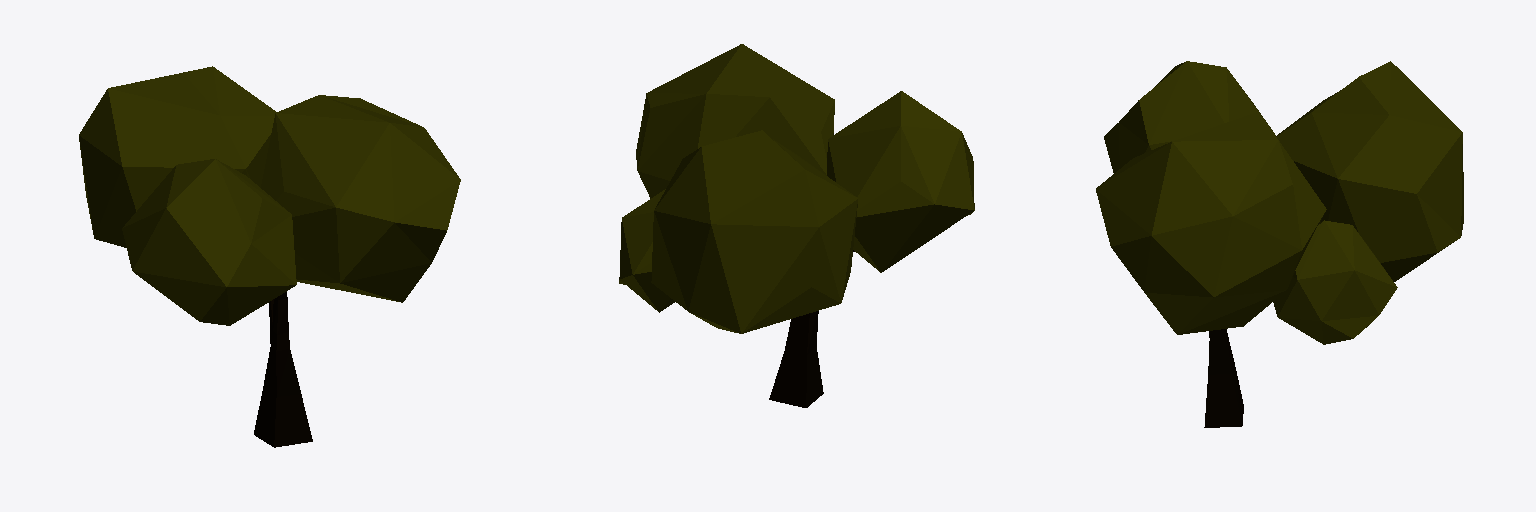
The model's file is forest_tree1.obj.
3 views of the same model, side by side, from view 1: azimuth 30°, elevation 25°; view 2: azimuth 150°, elevation 25°; view 3: azimuth 270°, elevation 25° (orthographic).
Parts seen in each view (by area): view 1: tree:crown1, tree:trunk1; view 2: tree:crown1, tree:trunk1; view 3: tree:crown1, tree:trunk1.
Part boxes in pixels (x1,y1,x2,y2): tree:crown1: (79,66,460,325); tree:trunk1: (254,292,312,447); tree:crown1: (619,44,974,333); tree:trunk1: (769,250,854,407); tree:crown1: (1096,61,1463,344); tree:trunk1: (1204,329,1243,427).
Bounding box in the file's own units: 3.72 × 3.5 × 3.6.